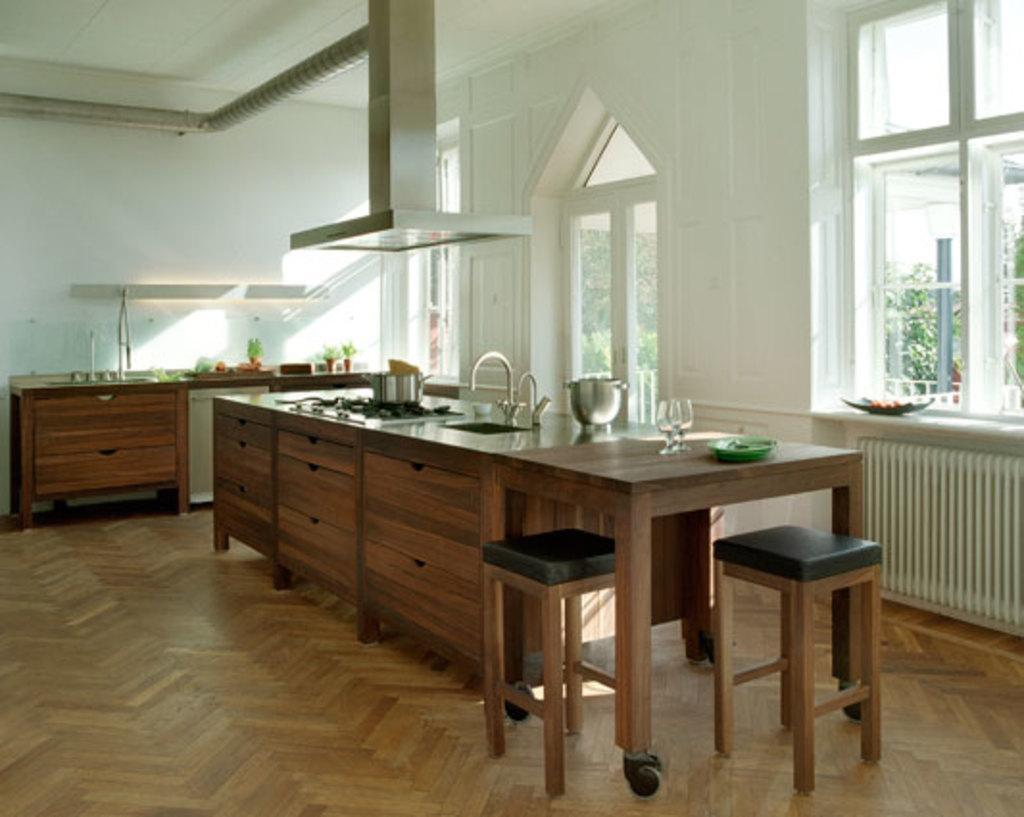door: (614, 206, 656, 414), (572, 216, 614, 414)
